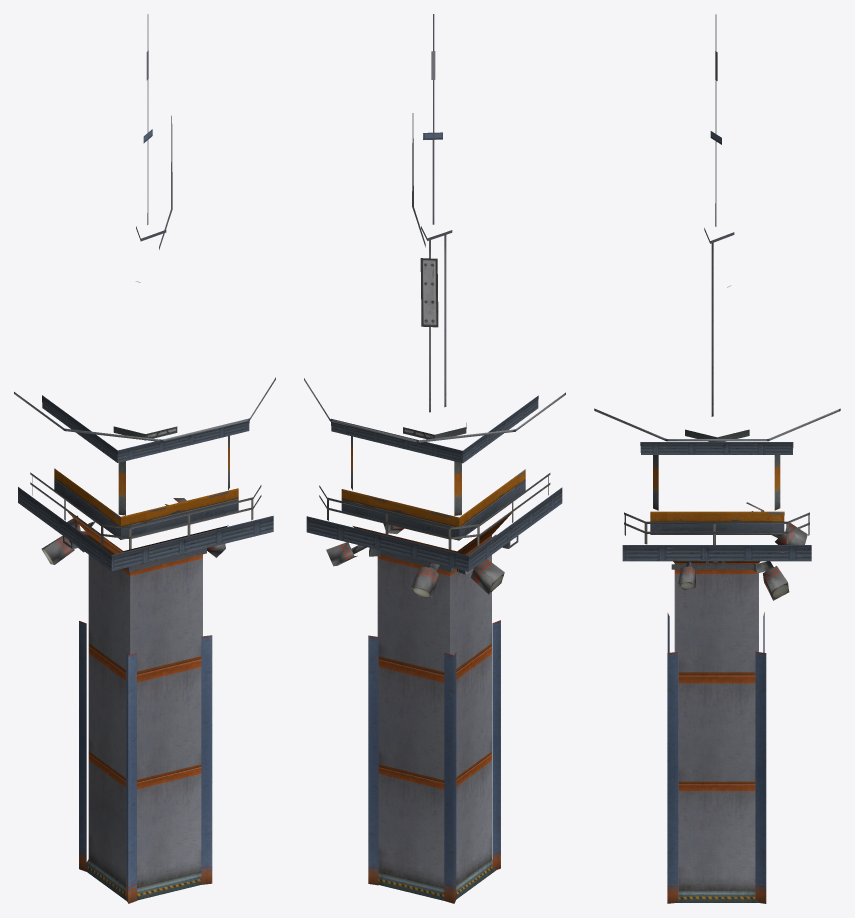
Rendered from Building_TowerHcz01_lod2.glb.
3 renders of one model, left to right at view 1: azimuth 30°, elevation 25°; view 2: azimuth 150°, elevation 25°; view 3: azimuth 270°, elevation 25°, orthographic.
Visible parts, largest first — view 1: xiutz_tower_hcz_01_lod2; view 2: xiutz_tower_hcz_01_lod2; view 3: xiutz_tower_hcz_01_lod2.
Part boxes in pixels (x1,y1,x2,y2): xiutz_tower_hcz_01_lod2: (14, 14, 275, 903); xiutz_tower_hcz_01_lod2: (304, 14, 565, 903); xiutz_tower_hcz_01_lod2: (594, 14, 840, 903).
Bounding box in the file's own units: 31.3 × 122 × 31.3.
1 material, 1 textured.
